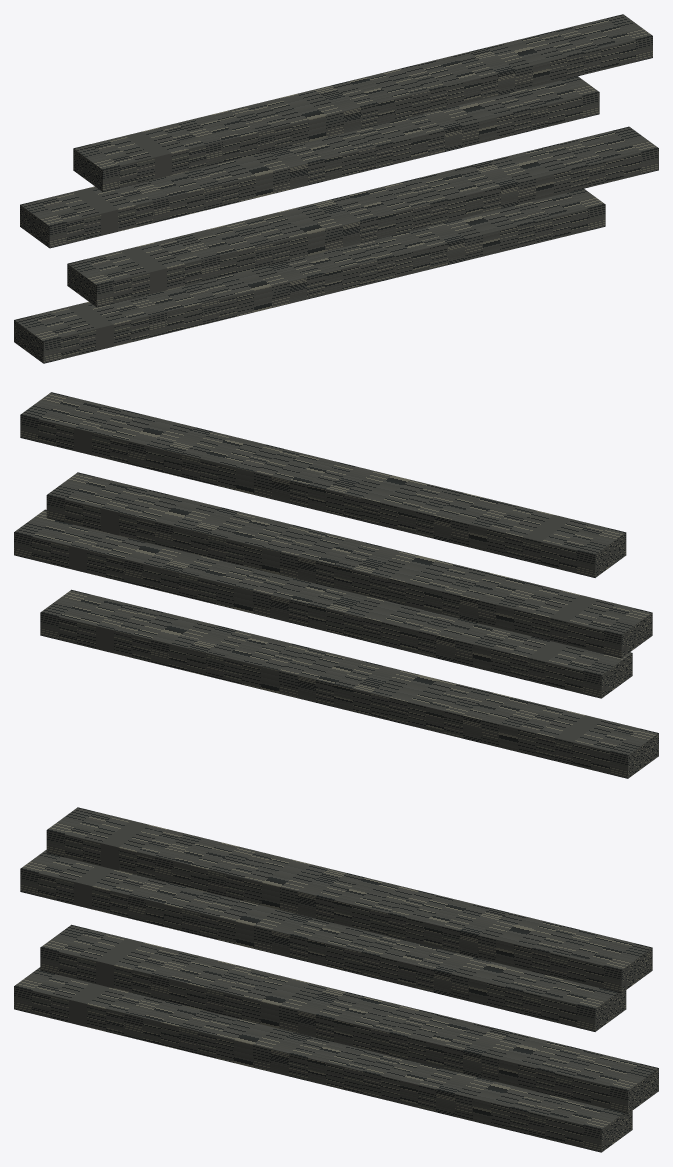
Rendered from workpiece_xuantie_helmet_rough.obj.
3 renders of one model, top to bottom at view 1: azimuth 30°, elevation 25°; view 2: azimuth 150°, elevation 25°; view 3: azimuth 330°, elevation 25°, orthographic. The views are drawn at different scales.
Parts seen in each view (by area): view 1: geometry; view 2: geometry; view 3: geometry.
Part boxes in pixels (x1,y1,x2,y2): geometry: [14, 14, 658, 363]; geometry: [14, 392, 658, 778]; geometry: [14, 807, 658, 1152].
Size of the model in its own units: 0.6219 by 0.1906 by 0.0781.
